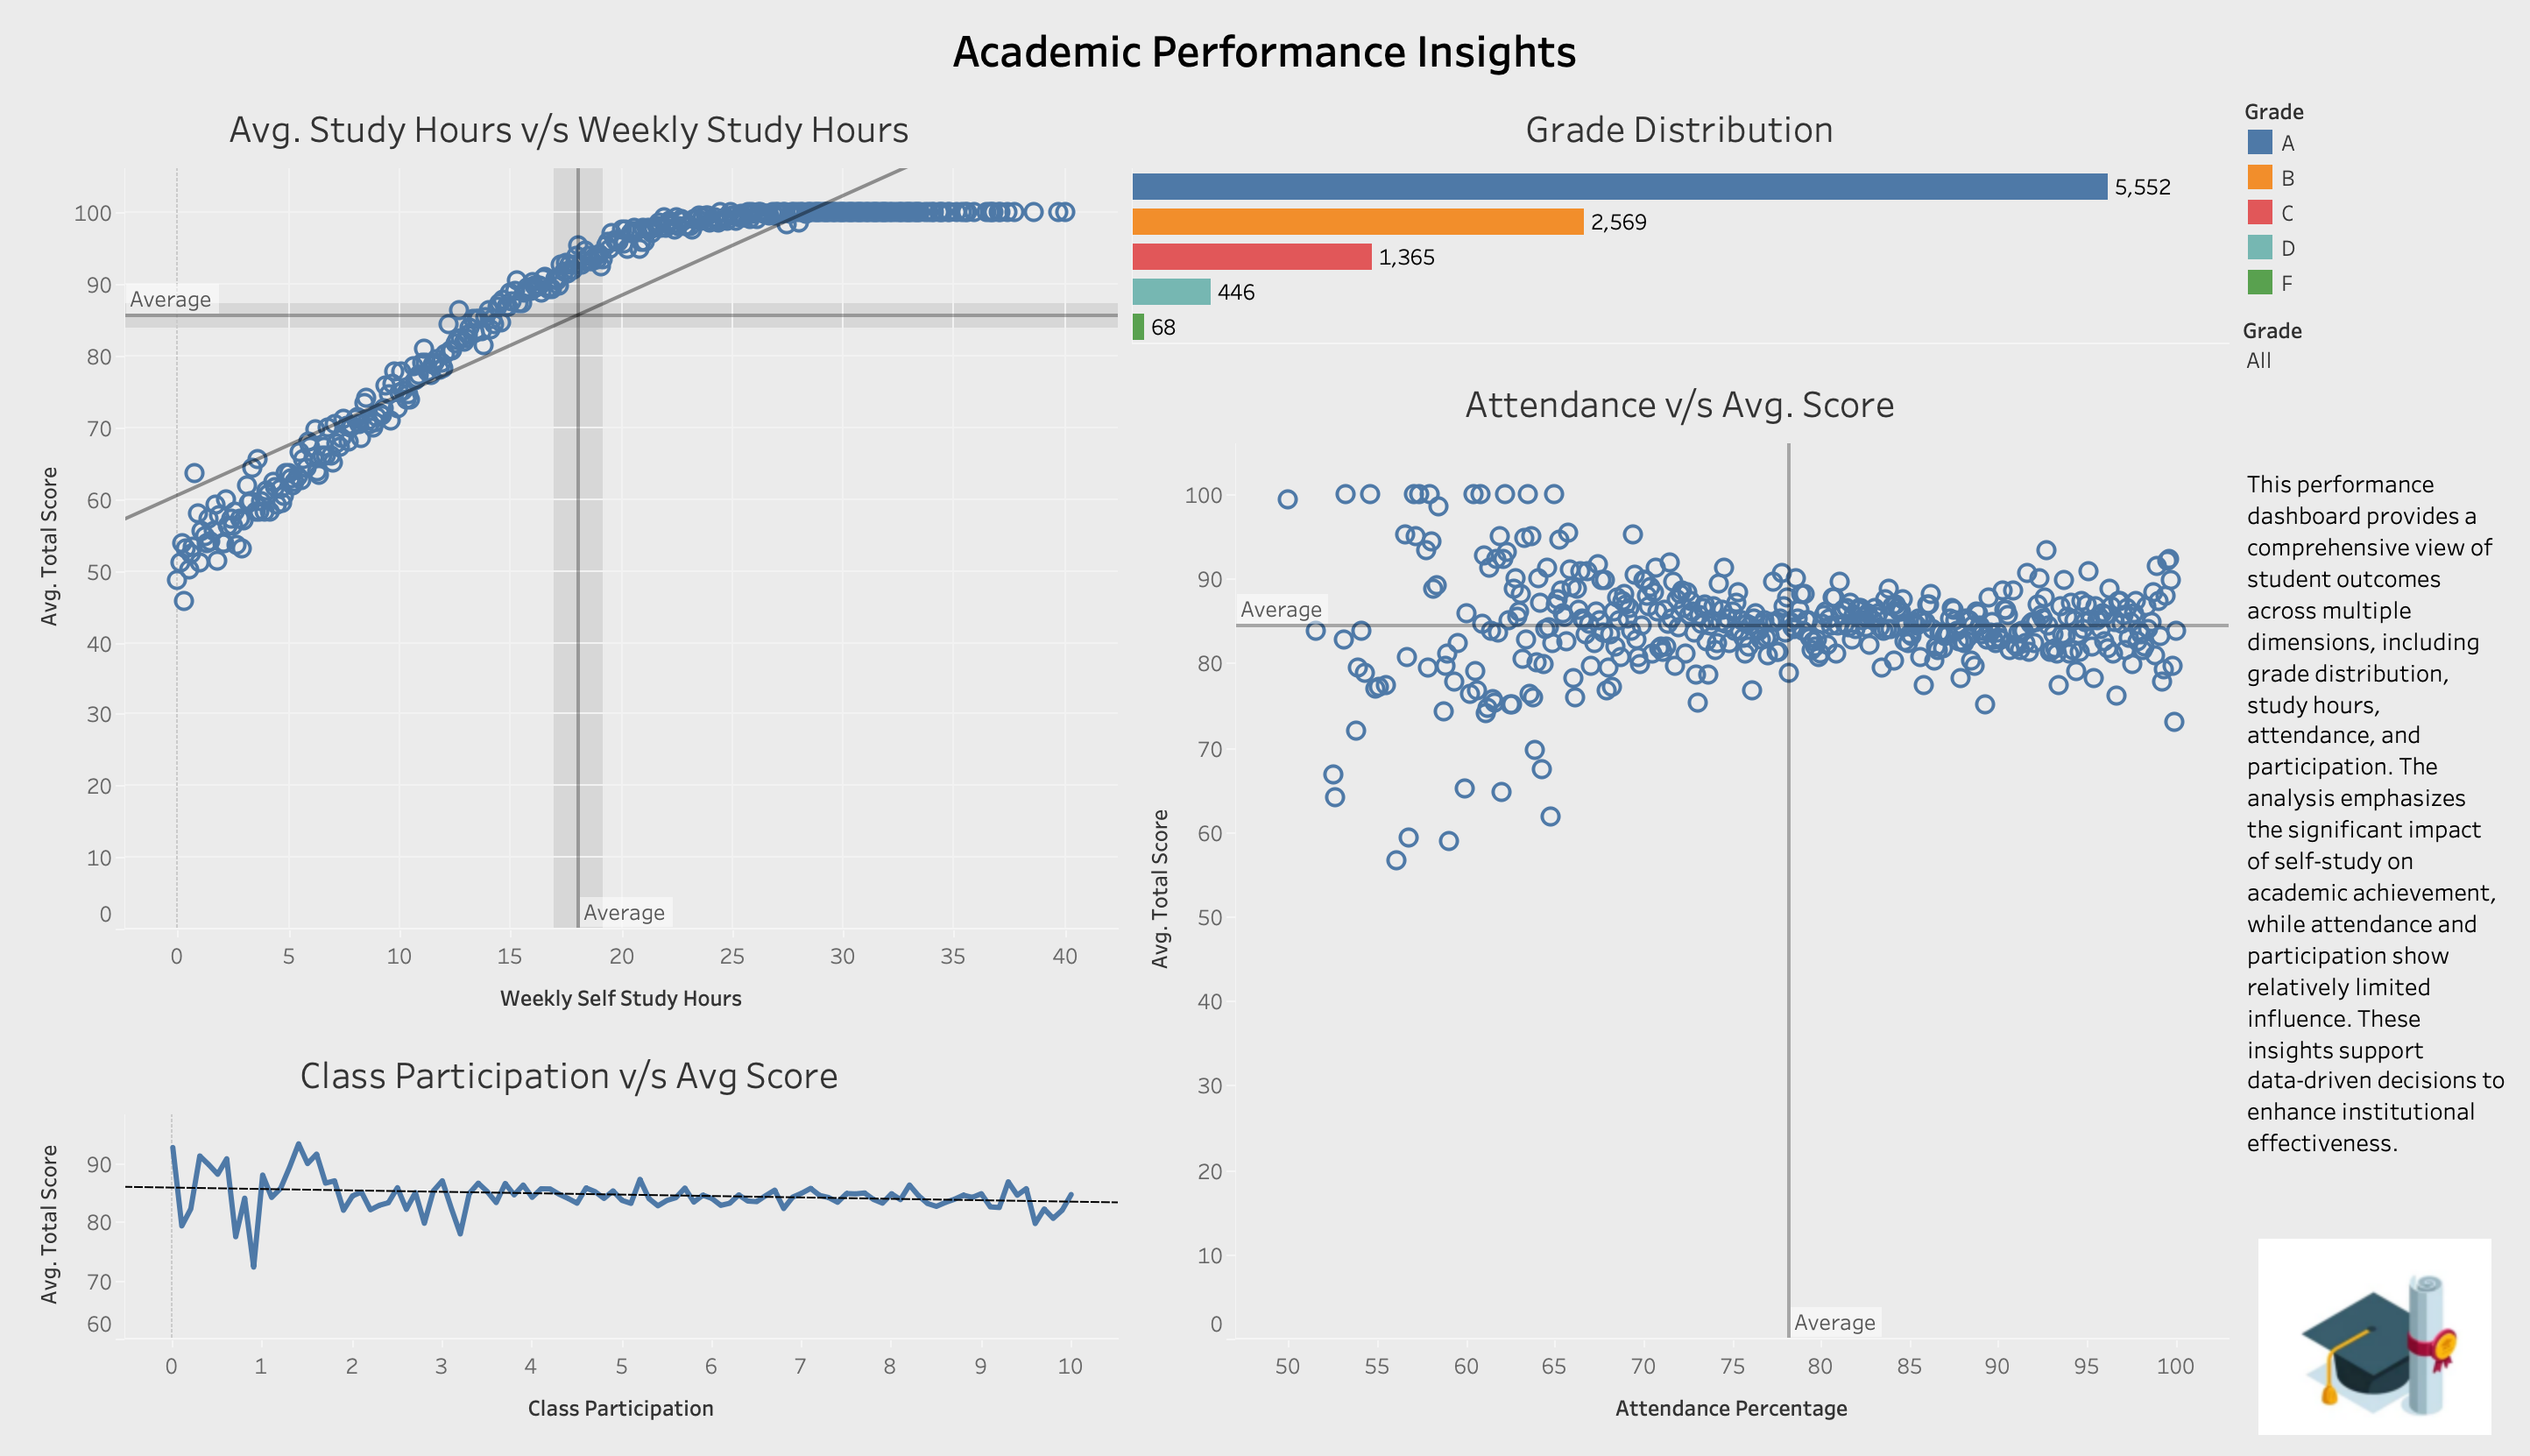

This screenshot's page, from the dashboard's own definition file:
{"tool":"tableau","page":{"name":"Dashboard 1","canvas":[1000,1000],"units":"permille","ordinal":0},"visuals":[{"type":"title","box":[5.5,9.6,988.9,49.3]},{"type":"worksheet","title":"Sheet 2","mark":"Shape","rows":["total_score"],"cols":["weekly_self_study_hours"],"box":[5.5,59,439,649.4]},{"type":"worksheet","title":"Sheet 1","mark":"Automatic","rows":["grade"],"cols":["student_id"],"box":[444.6,59,439.1,189.2]},{"type":"legend","title":"Sheet 1","param":"[federated.1nyy1bc0lwdn2y1cbzrfi0zh6t0w].[none:grade:nk]","box":[883.7,59,110.8,151.6]},{"type":"filter","title":"Sheet 1","param":"[federated.1nyy1bc0lwdn2y1cbzrfi0zh6t0w].[none:grade:nk]","box":[883.7,210.6,110.8,62.6]},{"type":"worksheet","title":"Sheet 3","mark":"Shape","rows":["total_score"],"cols":["attendance_percentage"],"box":[444.6,248.1,439.1,742.2]},{"type":"text","box":[883.7,273.2,110.8,572.8]},{"type":"worksheet","title":"Sheet 4","mark":"Automatic","rows":["total_score"],"cols":["class_participation"],"box":[5.5,708.4,439,282]},{"type":"image","param":"Image/Screenshot 2025-09-21 at 8.25.28 PM.png","box":[883.7,846,110.8,144.4]}]}

Visuals, with their boxes on the dashboard's canvas, which has no fixed pixel size, in thousandths of its width and height (x1, y1, x2, y2). These are canvas units, not pixel positions in the 2530x1456 screenshot, which may show the page scaled, cropped or inside an application window:
title: detection(6, 10, 994, 59)
"Sheet 2" worksheet (Shape marks): detection(6, 59, 444, 708)
"Sheet 1" worksheet: detection(445, 59, 884, 248)
"Sheet 1" legend: detection(884, 59, 994, 211)
"Sheet 1" filter: detection(884, 211, 994, 273)
"Sheet 3" worksheet (Shape marks): detection(445, 248, 884, 990)
text: detection(884, 273, 994, 846)
"Sheet 4" worksheet: detection(6, 708, 444, 990)
image: detection(884, 846, 994, 990)
